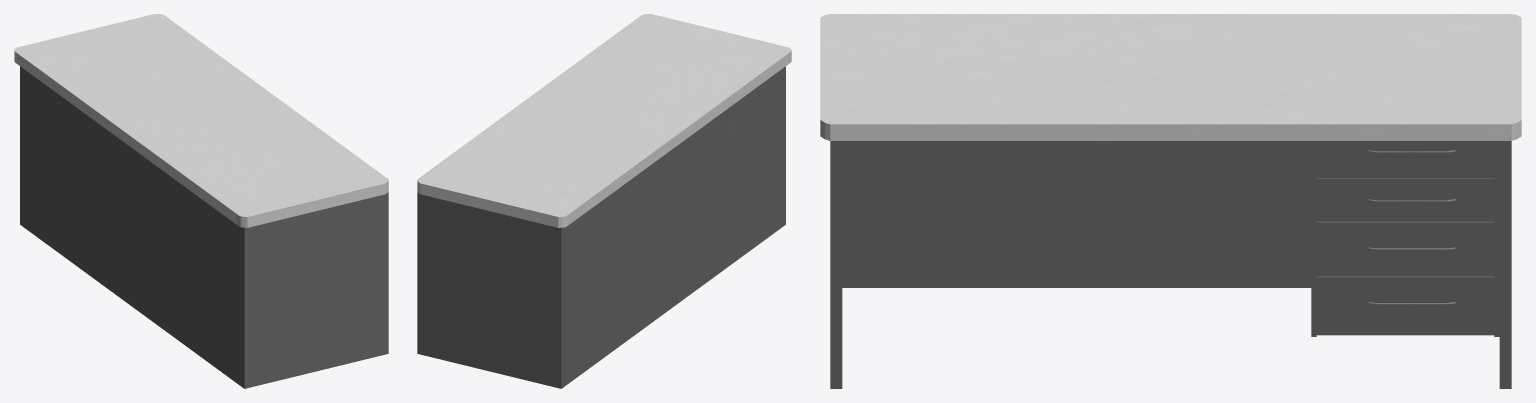
Rendered from camera room table.fbx.
3 renders of one model, left to right at view 1: azimuth 30°, elevation 25°; view 2: azimuth 150°, elevation 25°; view 3: azimuth 270°, elevation 25°, orthographic. The views are drawn at different scales.
Visible parts, largest first — view 1: pCube151; view 2: pCube151; view 3: pCube151.
Part boxes in pixels (x1=…): pCube151: x1=14, y1=14, x2=388, y2=388; pCube151: x1=417, y1=14, x2=791, y2=388; pCube151: x1=820, y1=14, x2=1521, y2=388.
Size of the model in its own units: 0.8737 by 0.9756 by 2.34.
1 material, 1 textured.
